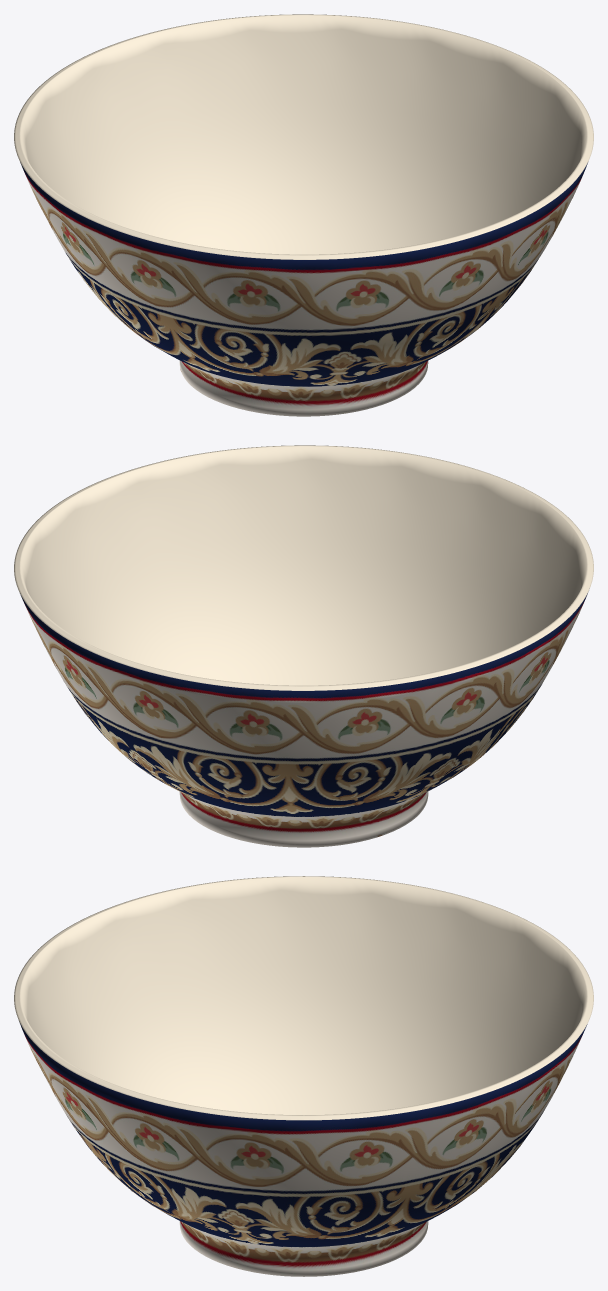
File: MS_PROP_Cap02.fbx
3 renders of one model, top to bottom at view 1: azimuth 30°, elevation 25°; view 2: azimuth 150°, elevation 25°; view 3: azimuth 270°, elevation 25°, orthographic.
Parts seen in each view (by area): view 1: MS_PROP_Cap02; view 2: MS_PROP_Cap02; view 3: MS_PROP_Cap02.
Part boxes in pixels (box(x1,y1,x2,y2)): MS_PROP_Cap02: box(14, 14, 593, 416); MS_PROP_Cap02: box(14, 445, 593, 847); MS_PROP_Cap02: box(14, 876, 593, 1276).
Bounding box in the file's own units: 0.0995 × 0.0434 × 0.0999.
1 material, 1 textured.
